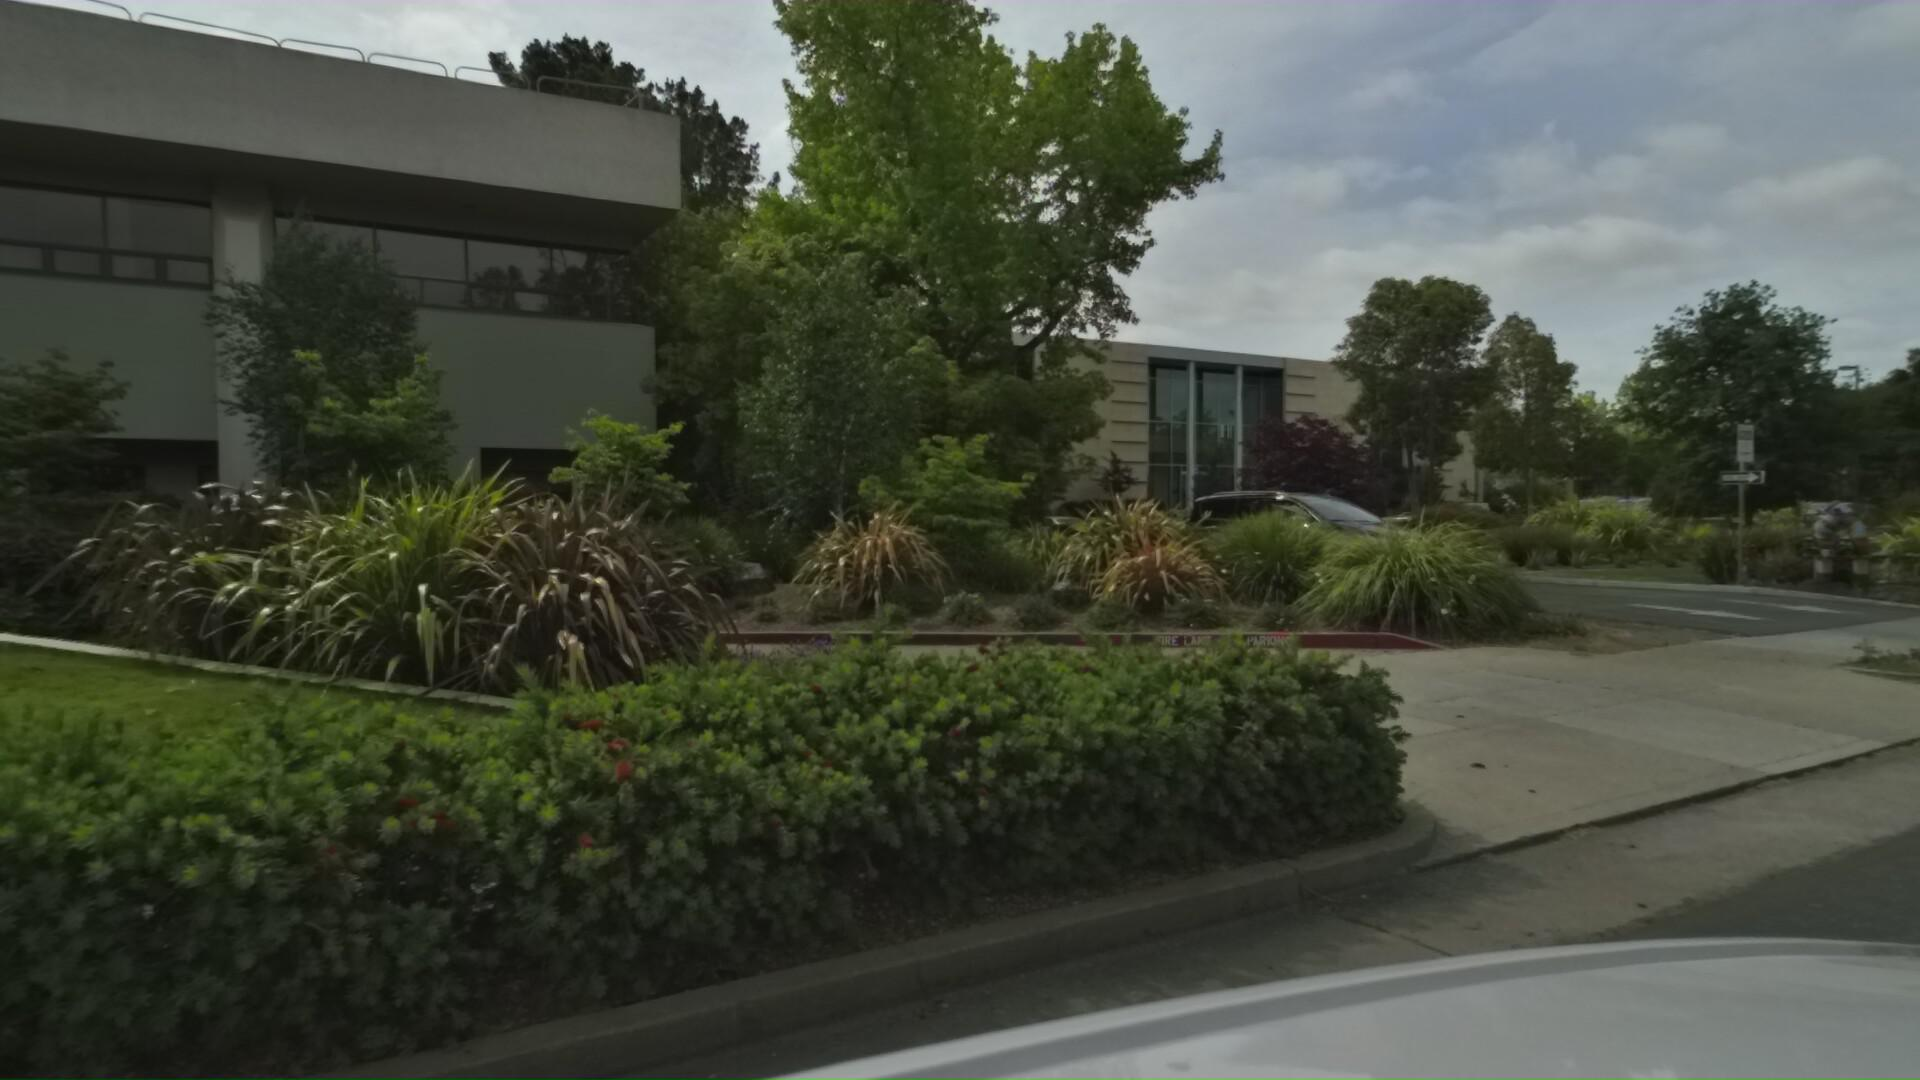car: (1193, 484, 1457, 584)
